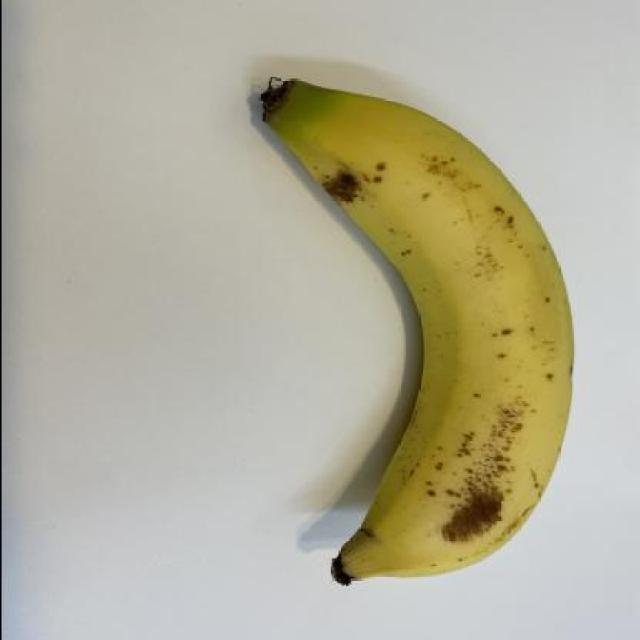banana: (259, 79, 579, 587)
